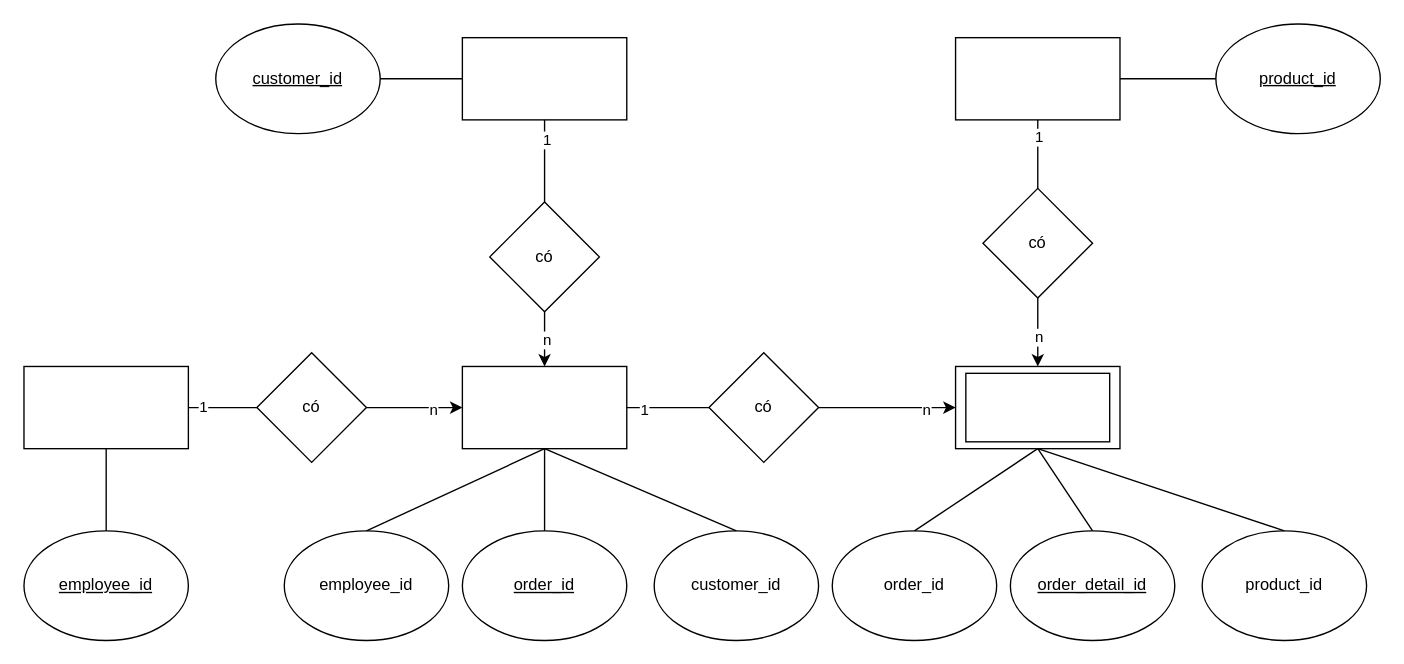
This 1404x664 diagram has some shape labels left out. Here are the shapes that lost their labels. From the top down, the centre of each, then its label:
(544,78): customer
(1037,78): products
(105,407): employee
(544,407): order
(1037,407): orderDetail
